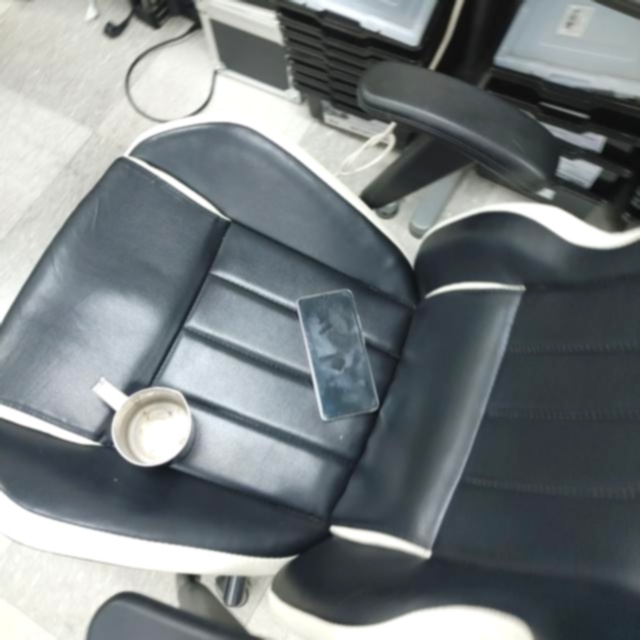cup: (90, 372, 200, 468)
phone: (296, 289, 383, 420)
